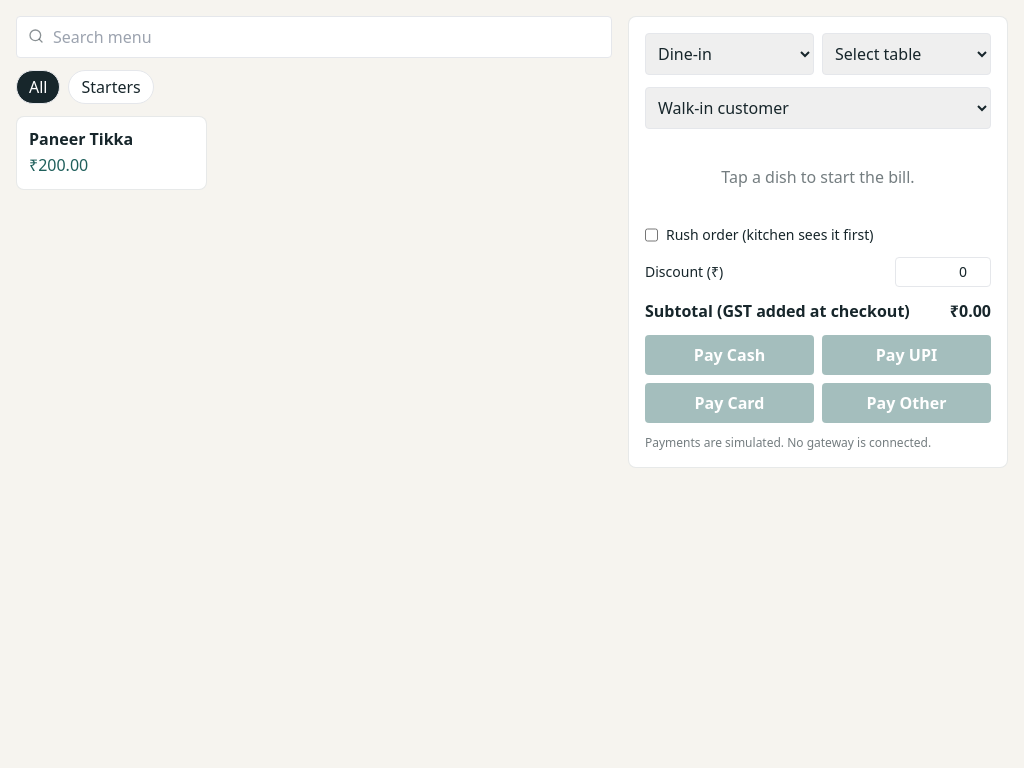
Billing screen › creates the order with server-side pricing inputs, pays, and shows the GST receipt
Click the text "Paneer Tikka": x=81, y=139 [29, 128, 133, 150]
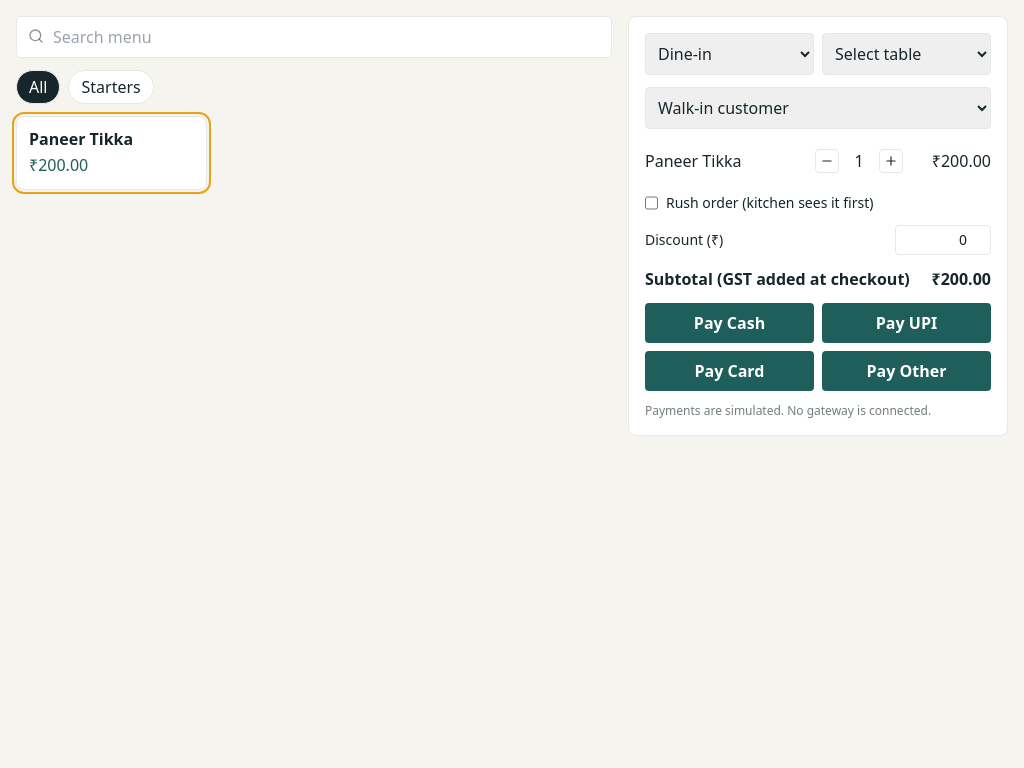
Click the 1st text "Paneer Tikka": x=81, y=139 [29, 128, 133, 150]
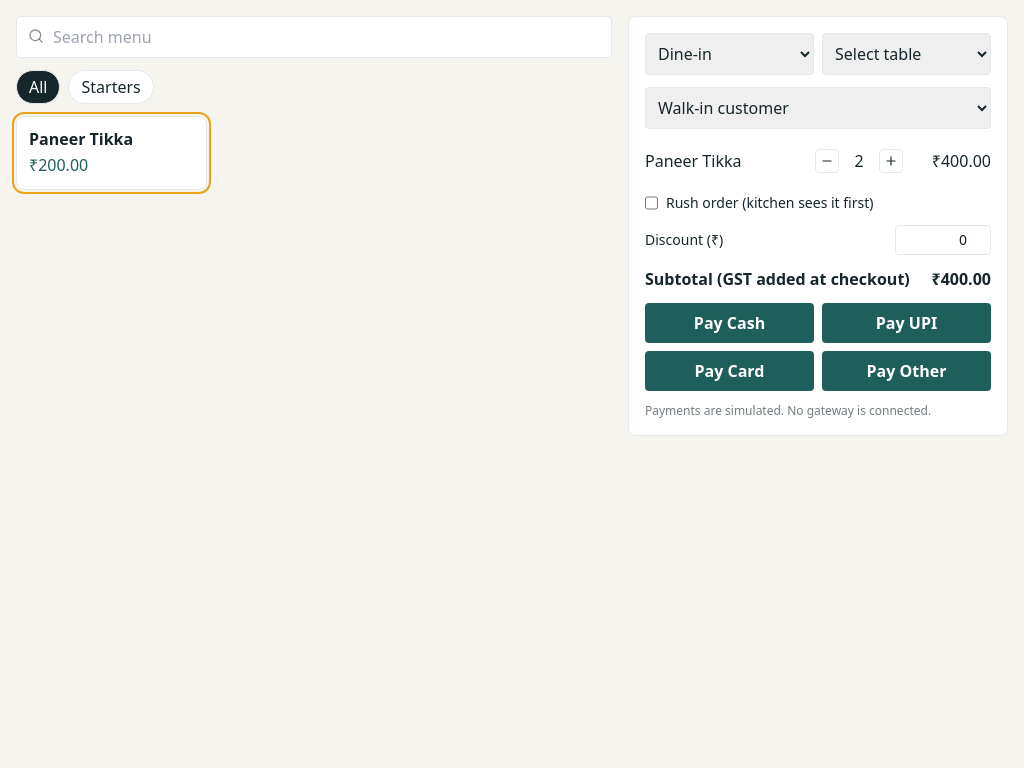
Select "Takeaway" in the dropdown named "Order type": x=730, y=54 [645, 33, 814, 75]
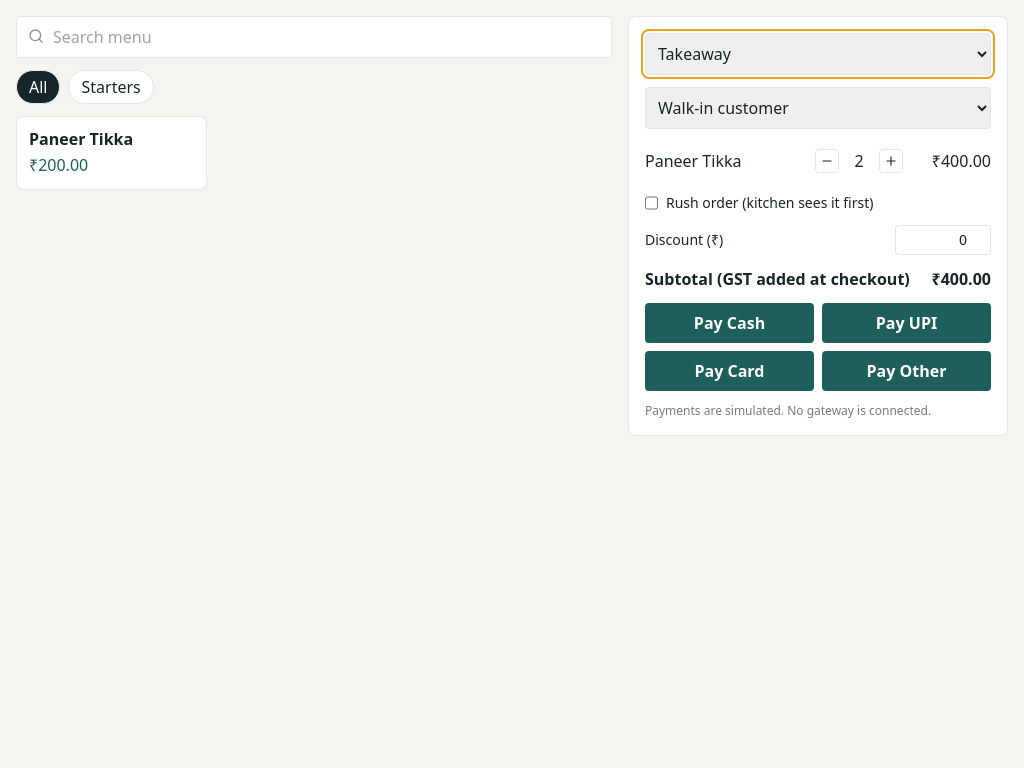
Click the button "Pay UPI": x=906, y=323 [822, 303, 991, 343]
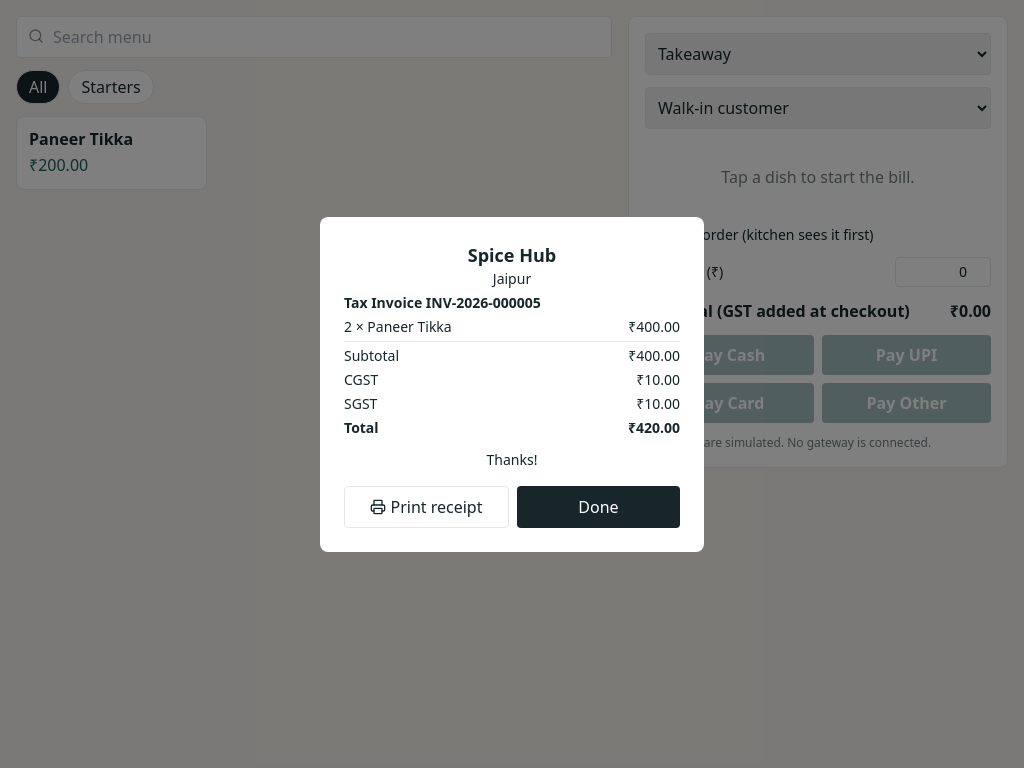
Expected: the heading "Tax Invoice INV-2026-000005" is shown, [344, 292, 541, 312]
Expected: the text "Spice Hub" is shown, [468, 242, 556, 266]
Expected: the text "₹420.00" is shown, [628, 418, 680, 438]
